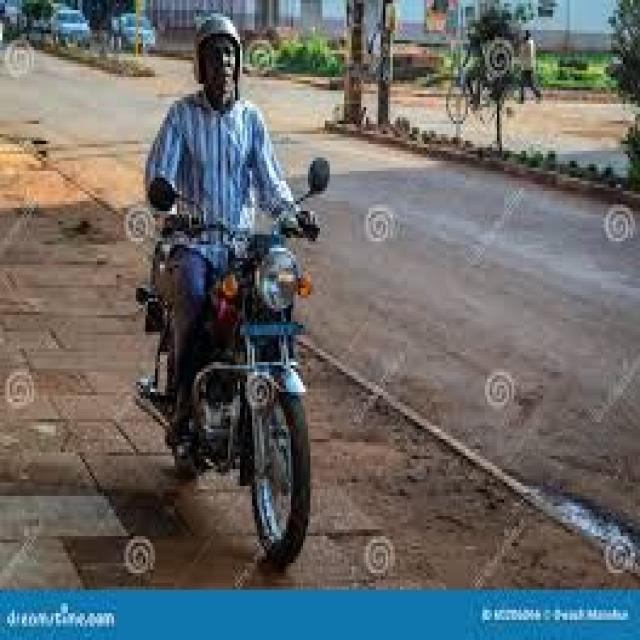bodaboda: (70, 153, 429, 582)
